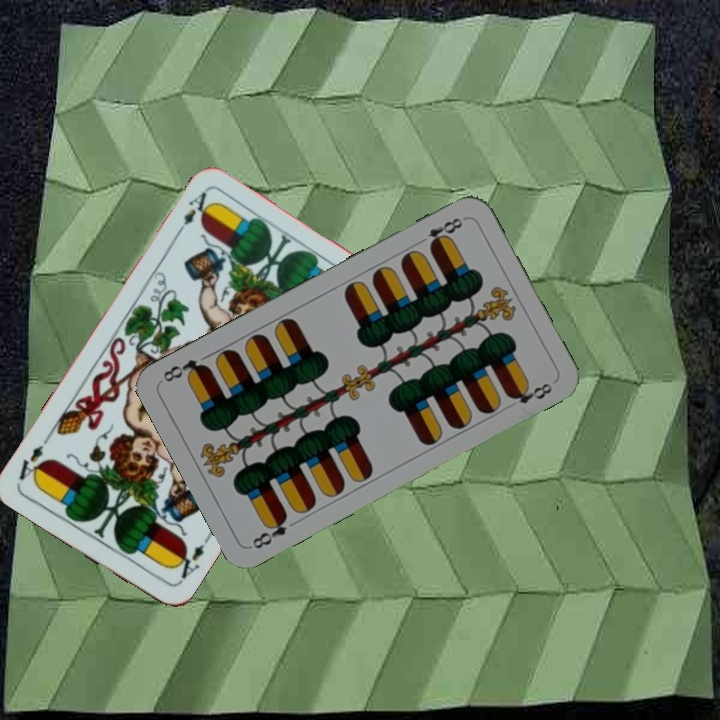E8: (413, 213, 468, 251), (248, 510, 290, 552)
EA: (169, 533, 212, 587), (171, 187, 214, 239)
